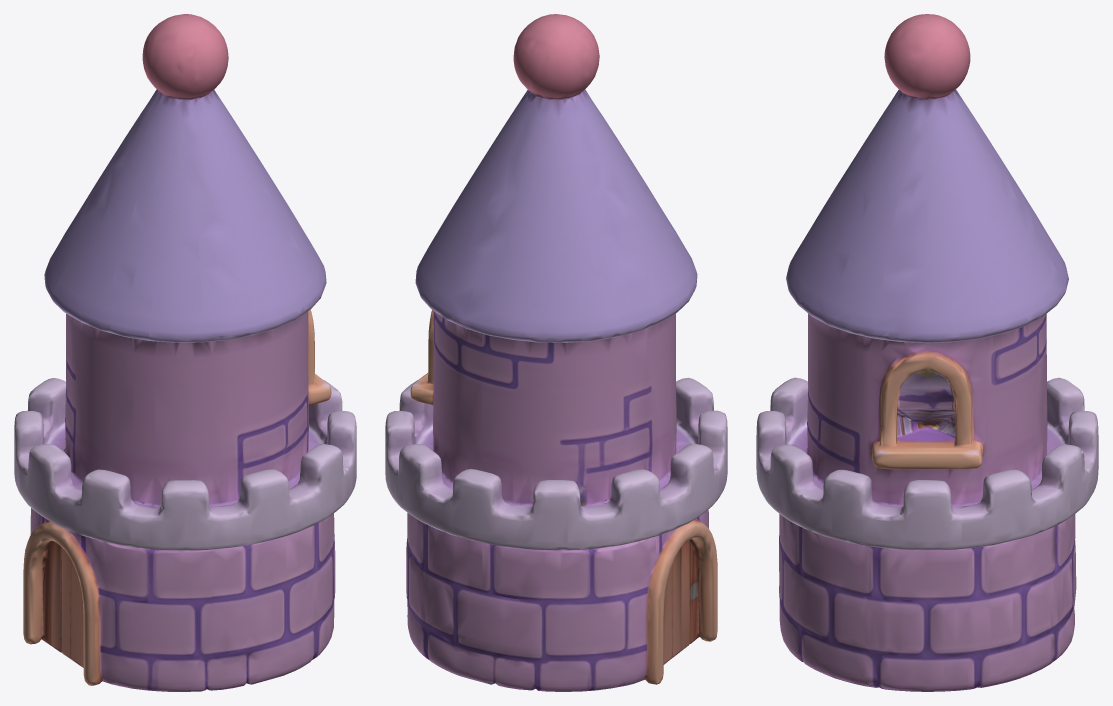
The picture shows the model from 3 angles, left to right: view 1: azimuth 30°, elevation 25°; view 2: azimuth 150°, elevation 25°; view 3: azimuth 270°, elevation 25°; orthographic projection.
Parts seen in each view (by area): view 1: repaired; view 2: repaired; view 3: repaired.
Part boxes in pixels (bbox=[...]): repaired: bbox=[14, 14, 356, 691]; repaired: bbox=[385, 14, 727, 691]; repaired: bbox=[756, 14, 1098, 691].
Bounding box in the file's own units: 0.5044 × 1 × 0.5044.
Materials: 1 (1 with a texture image).
